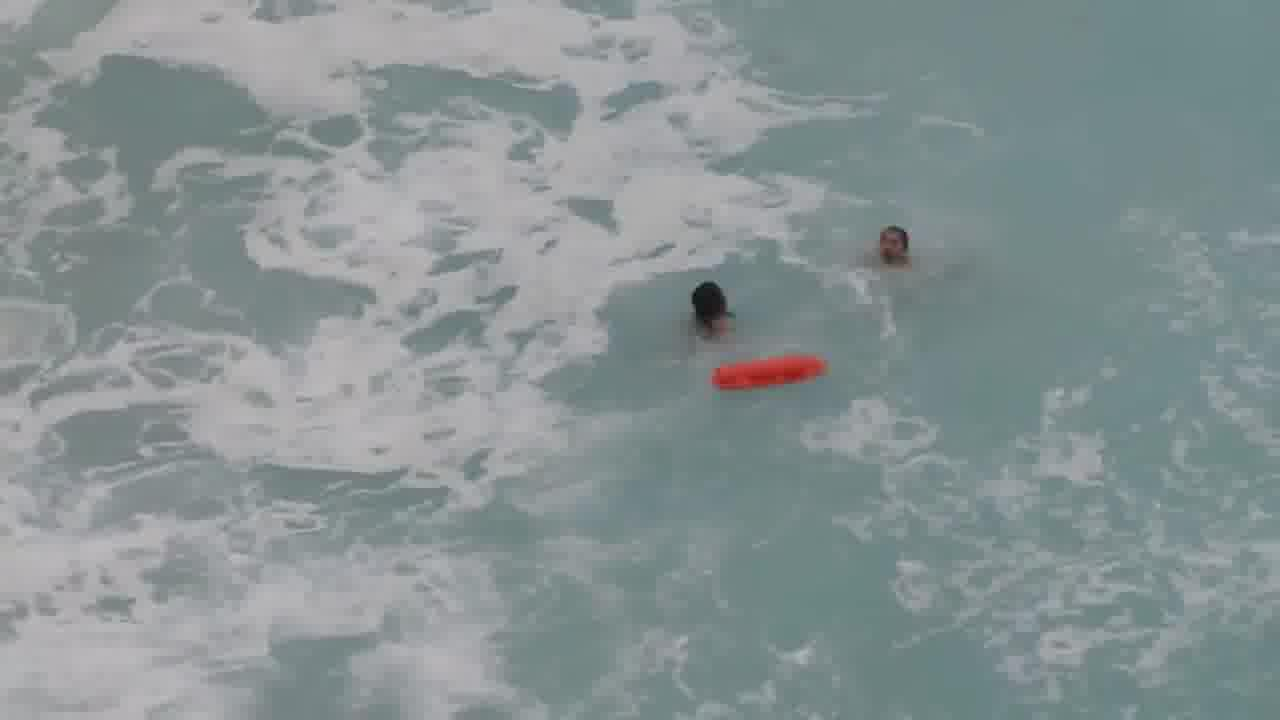swimmer: (658, 264, 771, 350), (854, 211, 947, 300)
